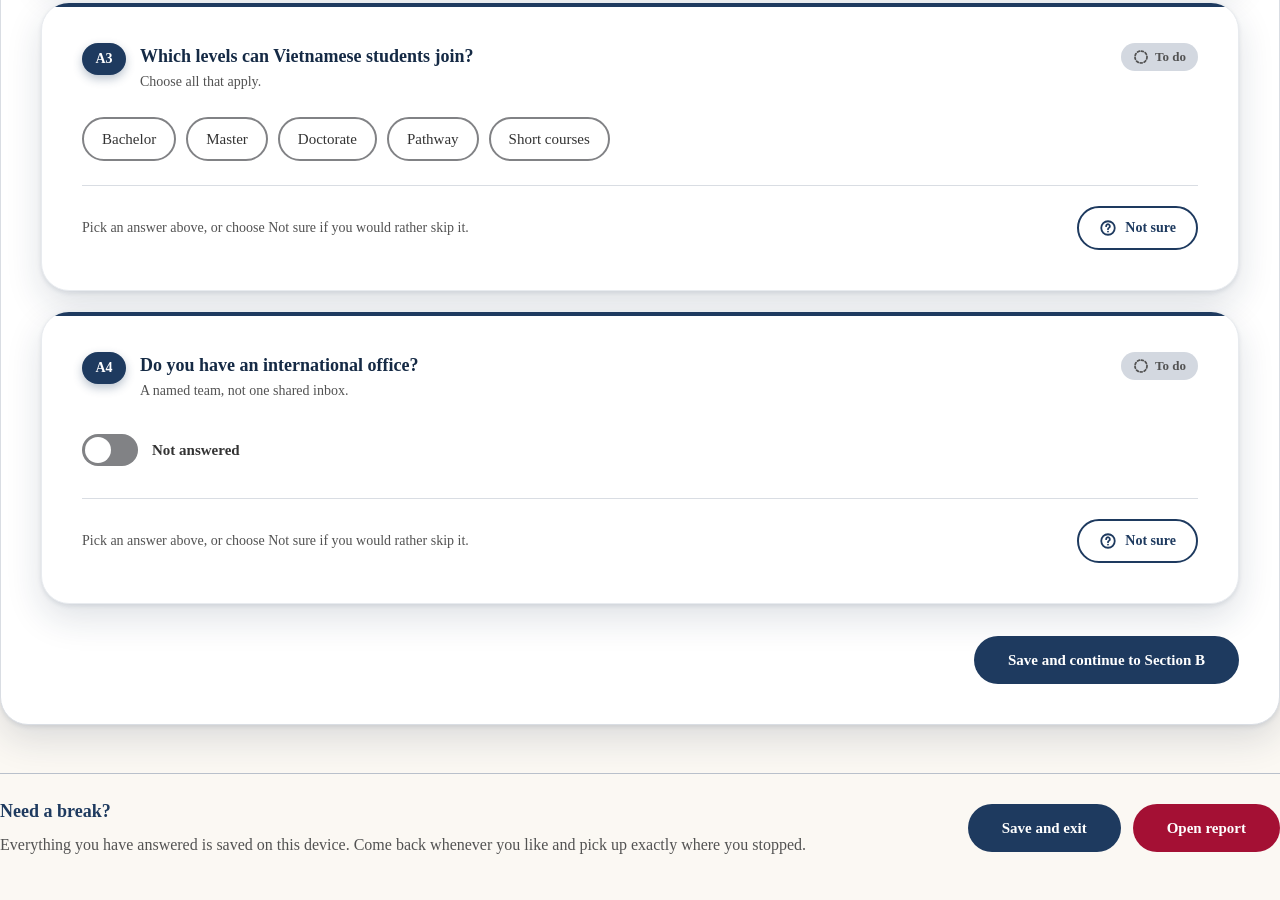
Scenario: IntakePage saving › shows Saving then Saved on this device, after a pause
The width and height of the screenshot is (1280, 900).
(page scrolled)
Click the switch: click(110, 450) x1=82 y1=434 x2=138 y2=466
(page scrolled)
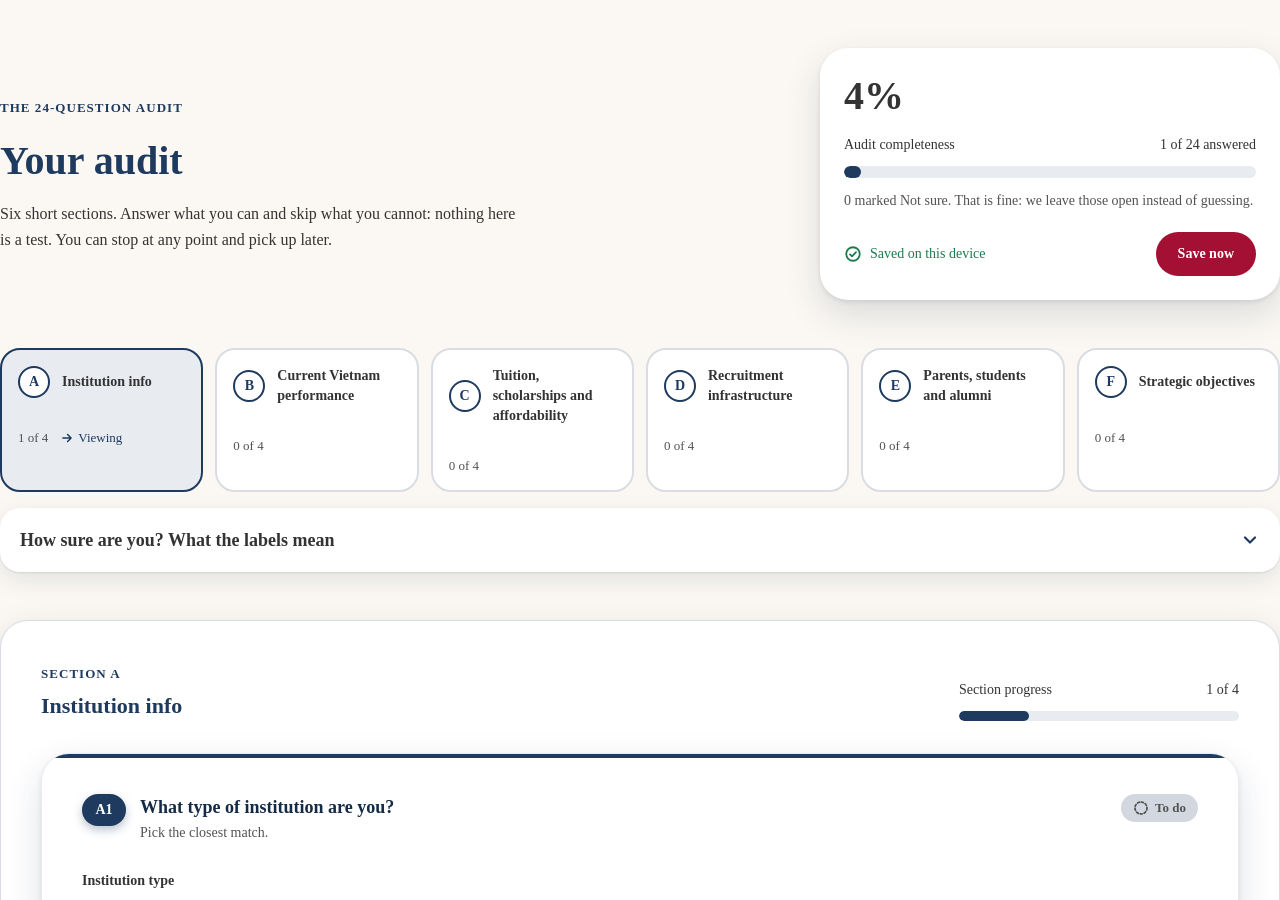
Expected: the text "Saved on this device" is shown, x1=870 y1=246 x2=986 y2=261
